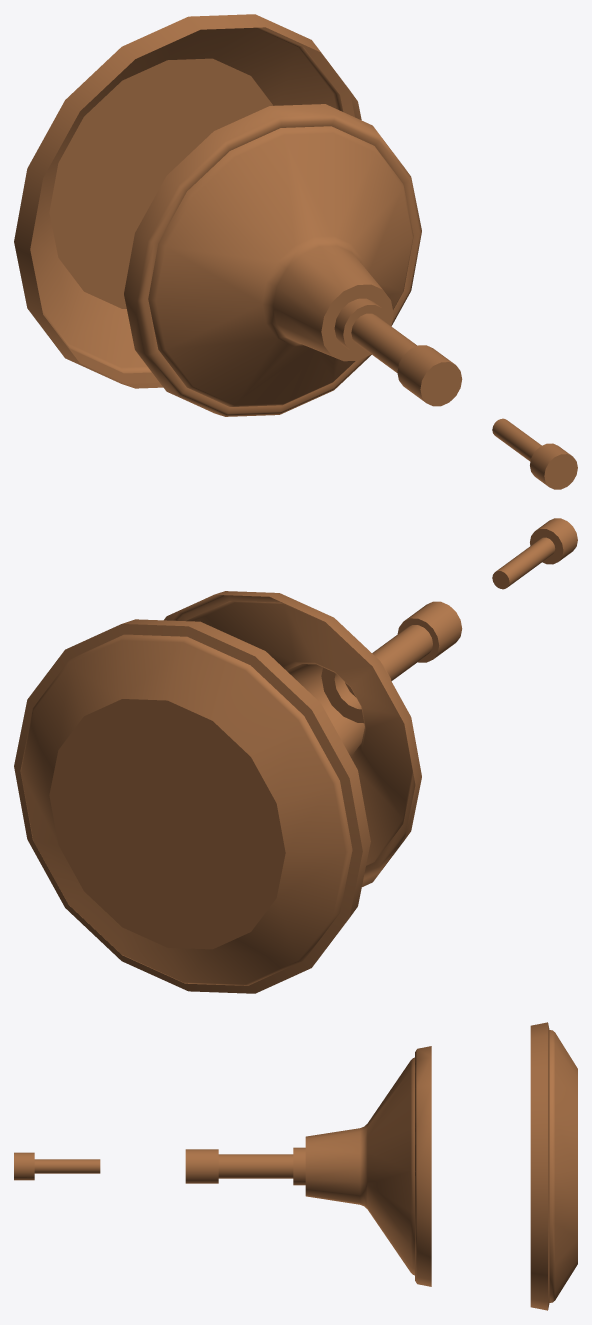
File: MeshDeskLamp_4_0_GeomSubset_0.obj
The picture shows the model from 3 angles, top to bottom: view 1: azimuth 30°, elevation 25°; view 2: azimuth 150°, elevation 25°; view 3: azimuth 270°, elevation 25°; orthographic projection. The views are drawn at different scales.
Parts seen in each view (by area): view 1: MeshDeskLamp_4_0_GeomSubset_0; view 2: MeshDeskLamp_4_0_GeomSubset_0; view 3: MeshDeskLamp_4_0_GeomSubset_0.
Boxes of the visible parts, left/top/right/bottom form: MeshDeskLamp_4_0_GeomSubset_0: left=14, top=14, right=577, bottom=489; MeshDeskLamp_4_0_GeomSubset_0: left=14, top=518, right=577, bottom=993; MeshDeskLamp_4_0_GeomSubset_0: left=14, top=1022, right=577, bottom=1310.
Size of the model in its own units: 0.1877 by 0.1877 by 0.3669.
